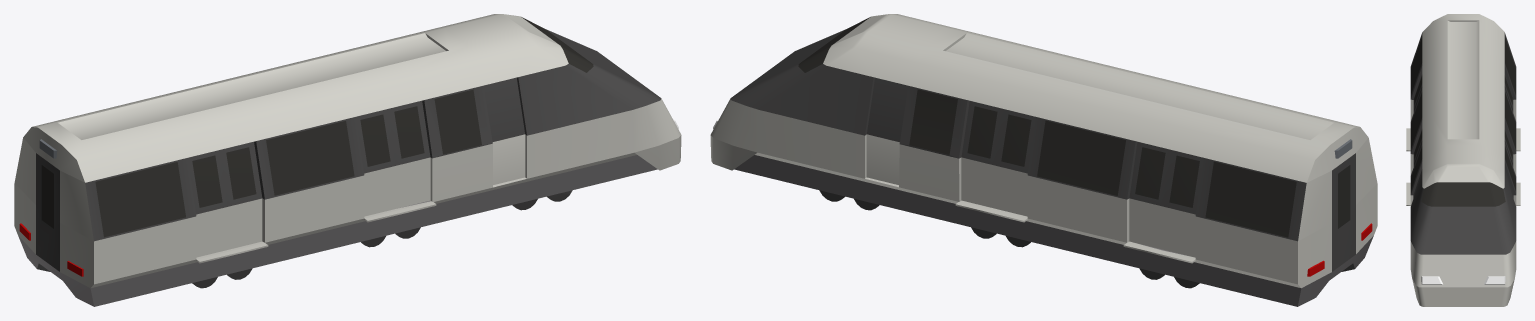
File: metrotrain_front.fbx
3 views of the same model, side by side, from view 1: azimuth 30°, elevation 25°; view 2: azimuth 150°, elevation 25°; view 3: azimuth 270°, elevation 25° (orthographic). The views are drawn at different scales.
Parts seen in each view (by area): view 1: metrotrain_front; view 2: metrotrain_front; view 3: metrotrain_front.
Part boxes in pixels (<box>): metrotrain_front: <box>14,14,681,306</box>; metrotrain_front: <box>710,14,1377,306</box>; metrotrain_front: <box>1406,14,1520,306</box>.
Size of the model in its own units: 1182 by 296 by 292.
